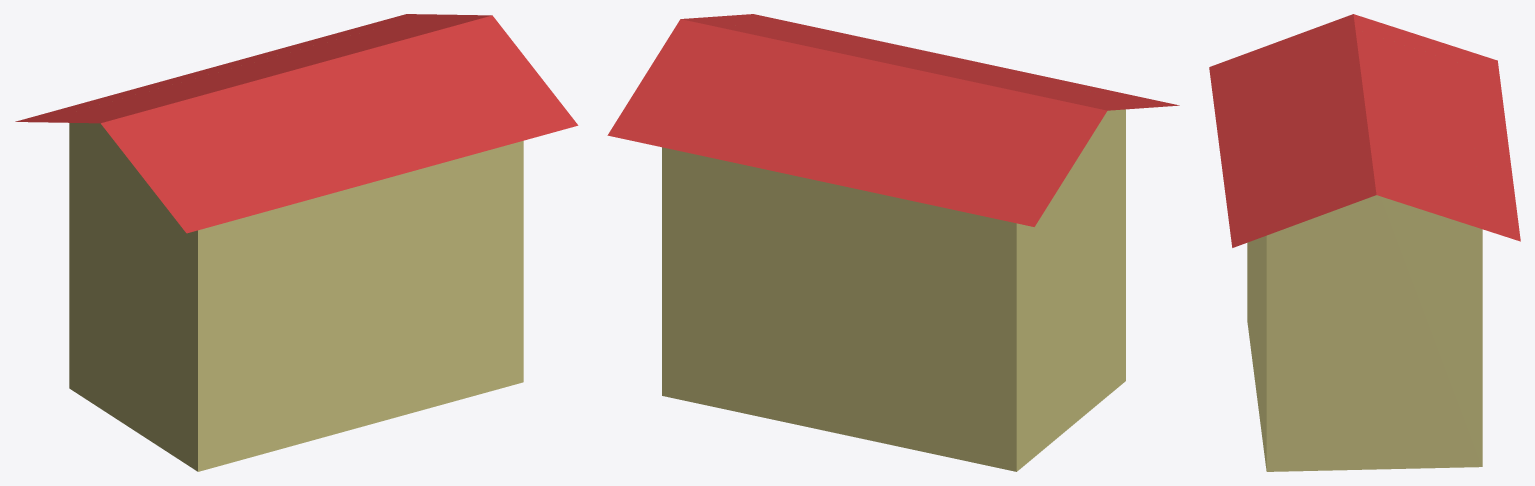
The picture shows the model from 3 angles, left to right: view 1: azimuth 30°, elevation 25°; view 2: azimuth 150°, elevation 25°; view 3: azimuth 270°, elevation 25°; orthographic projection. The views are drawn at different scales.
Visible parts, largest first — view 1: group_5, group_3, group_4; view 2: group_5, group_3, group_4; view 3: group_5, group_3, group_4.
Part boxes in pixels (x1,y1,x2,y2): group_5: (69,123,523,471); group_3: (70,15,578,233); group_4: (15,14,503,233); group_5: (662,109,1125,471); group_3: (662,14,1176,224); group_4: (607,19,1179,226); group_5: (1247,195,1482,471); group_3: (1209,14,1482,247); group_4: (1209,14,1520,241).
Size of the model in its own units: 9.17 by 6.44 by 6.6.
